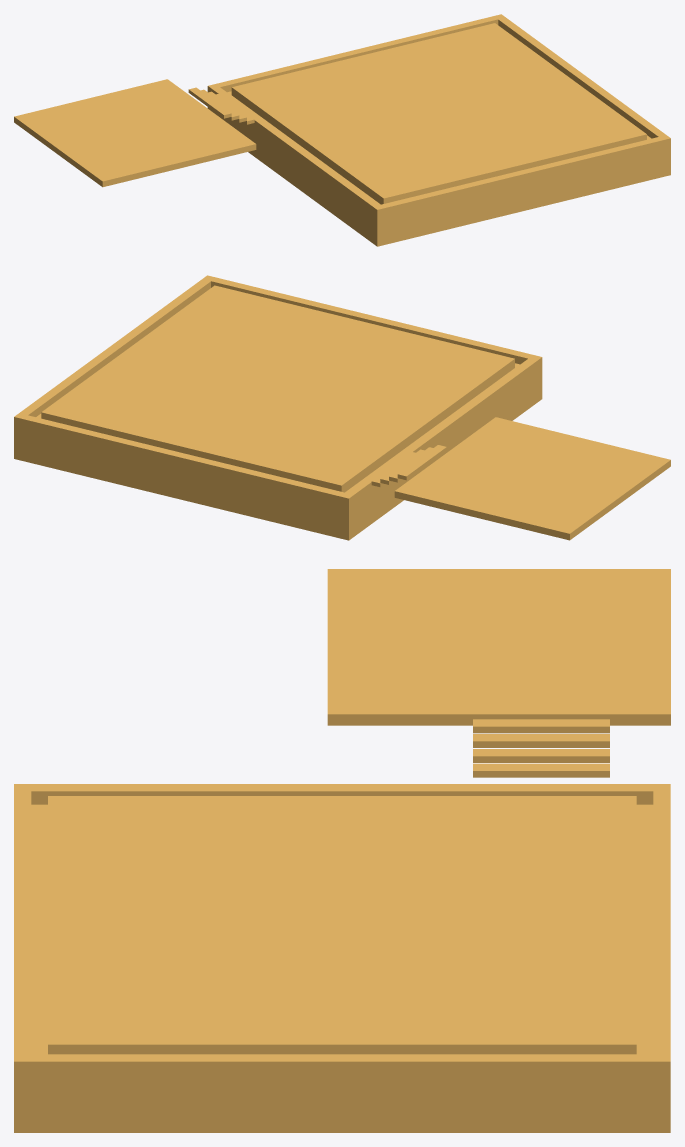
Rendered from OU_AR_Biology_01_D.fbx.
The picture shows the model from 3 angles, top to bottom: view 1: azimuth 30°, elevation 25°; view 2: azimuth 150°, elevation 25°; view 3: azimuth 270°, elevation 25°; orthographic projection. The views are drawn at different scales.
Parts seen in each view (by area): view 1: OU_AR_Biology_01_D; view 2: OU_AR_Biology_01_D; view 3: OU_AR_Biology_01_D.
Boxes of the visible parts, x1,y1,x2,y2 form: OU_AR_Biology_01_D: [14, 14, 670, 246]; OU_AR_Biology_01_D: [14, 275, 670, 540]; OU_AR_Biology_01_D: [14, 569, 670, 1132].
Bounding box in the file's own units: 2221 × 232 × 1339.
